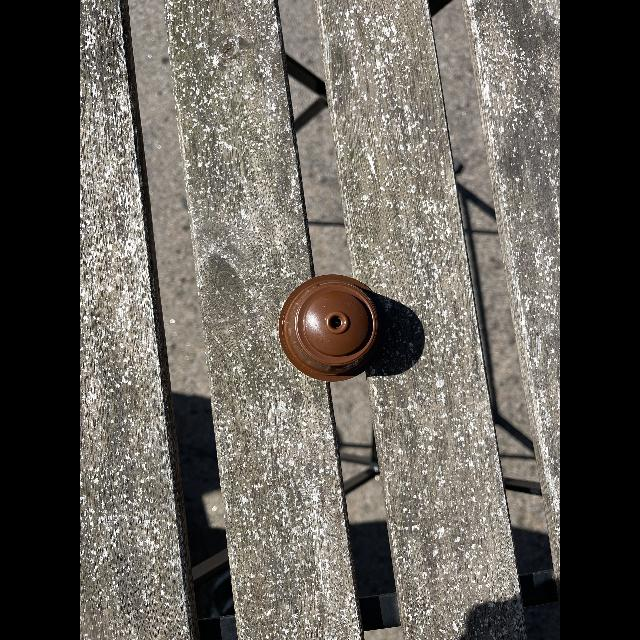intact_capsule: (274, 263, 392, 389)
